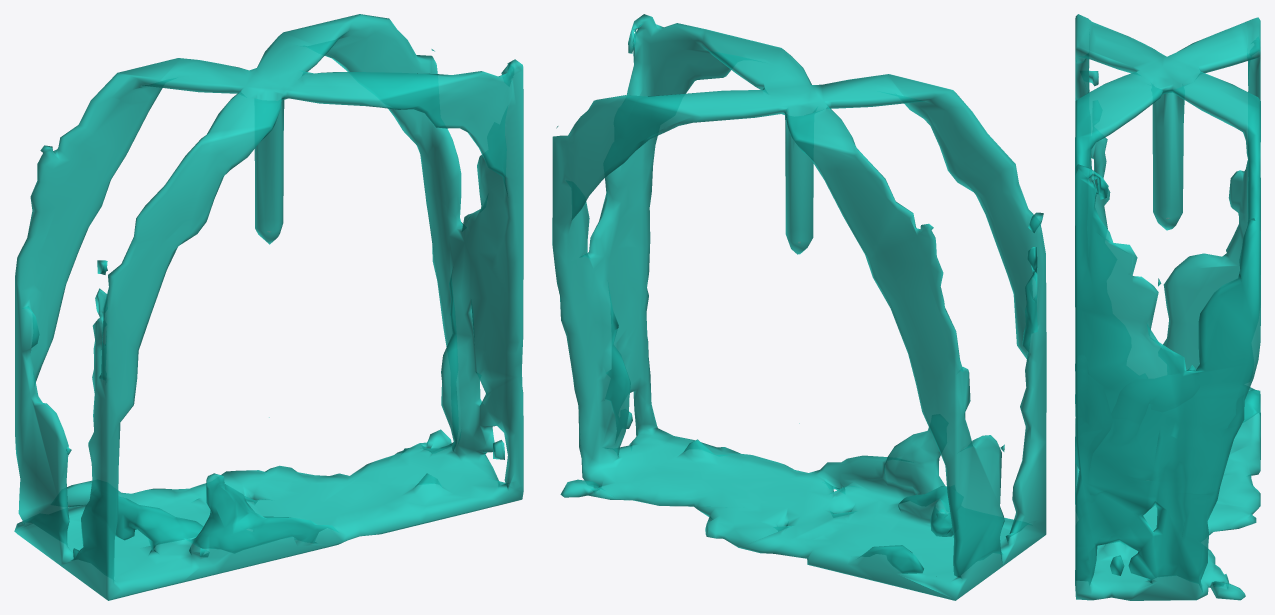
3 renders of one model, left to right at view 1: azimuth 30°, elevation 25°; view 2: azimuth 150°, elevation 25°; view 3: azimuth 270°, elevation 25°, orthographic. The views are drawn at different scales.
Parts seen in each view (by area): view 1: Liquid_Domain; view 2: Liquid_Domain; view 3: Liquid_Domain.
Part boxes in pixels (bbox=[...]): Liquid_Domain: bbox=[14, 14, 523, 600]; Liquid_Domain: bbox=[552, 14, 1046, 600]; Liquid_Domain: bbox=[1075, 14, 1260, 600].
Size of the model in its own units: 885 by 884 by 345.
